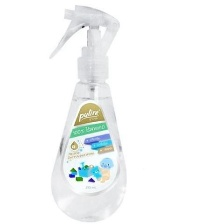cleaning_solution: (46, 1, 128, 224)
